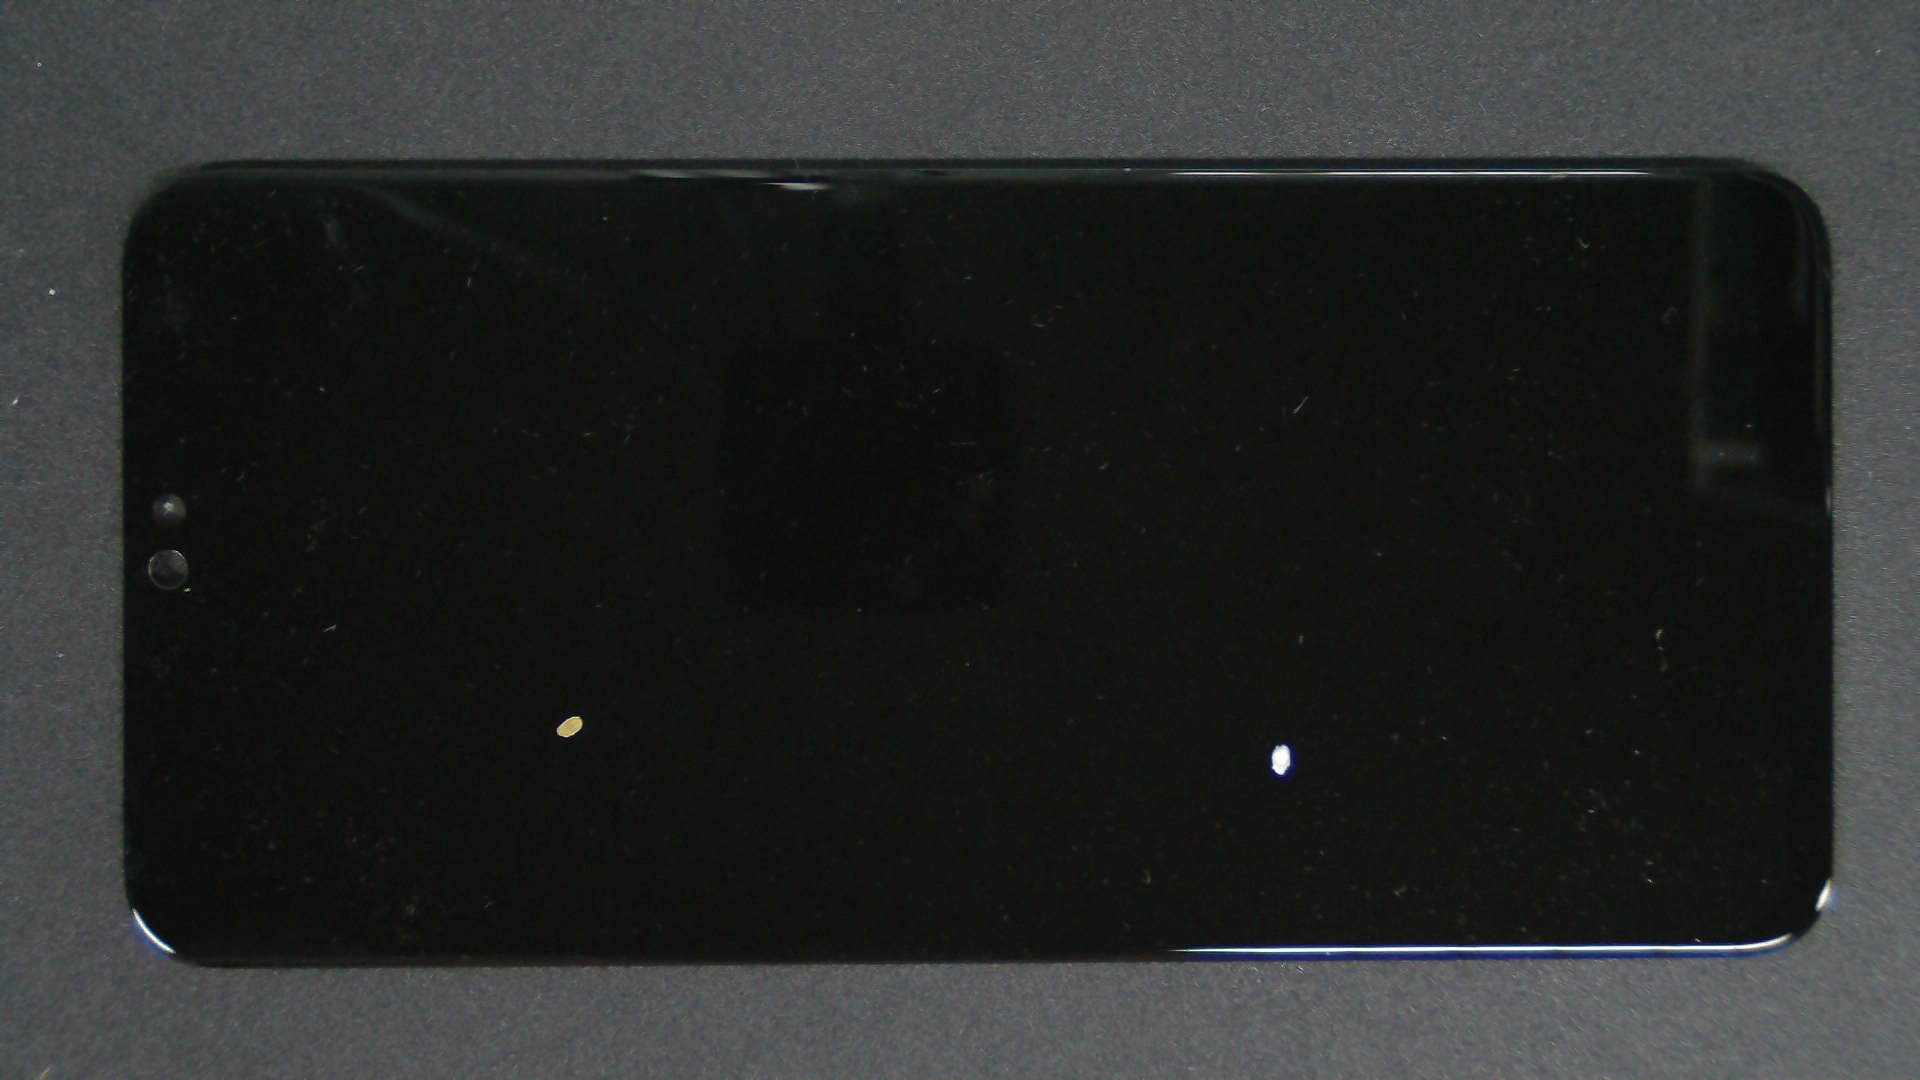defect: (1270, 742, 1291, 775), (555, 715, 583, 738)
